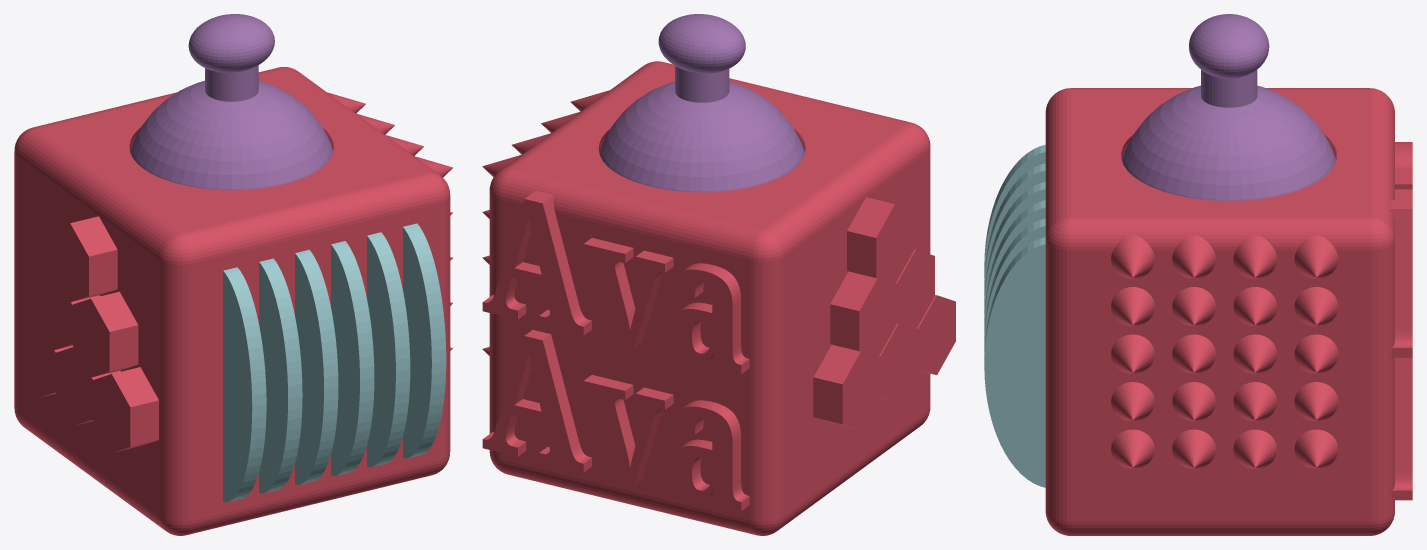
Rendered from Ava-Titainum.glb.
3 renders of one model, left to right at view 1: azimuth 30°, elevation 25°; view 2: azimuth 150°, elevation 25°; view 3: azimuth 270°, elevation 25°, orthographic. The views are drawn at different scales.
Visible parts, largest first — view 1: Mesh_Mesh_head_geo.001_lambert2SG.001; view 2: Mesh_Mesh_head_geo.001_lambert2SG.001; view 3: Mesh_Mesh_head_geo.001_lambert2SG.001.
Part boxes in pixels (<box>): Mesh_Mesh_head_geo.001_lambert2SG.001: <box>14,14,453,535</box>; Mesh_Mesh_head_geo.001_lambert2SG.001: <box>482,14,955,535</box>; Mesh_Mesh_head_geo.001_lambert2SG.001: <box>984,14,1412,535</box>.
Bounding box in the file's own units: 0.049 × 0.057 × 0.049.
